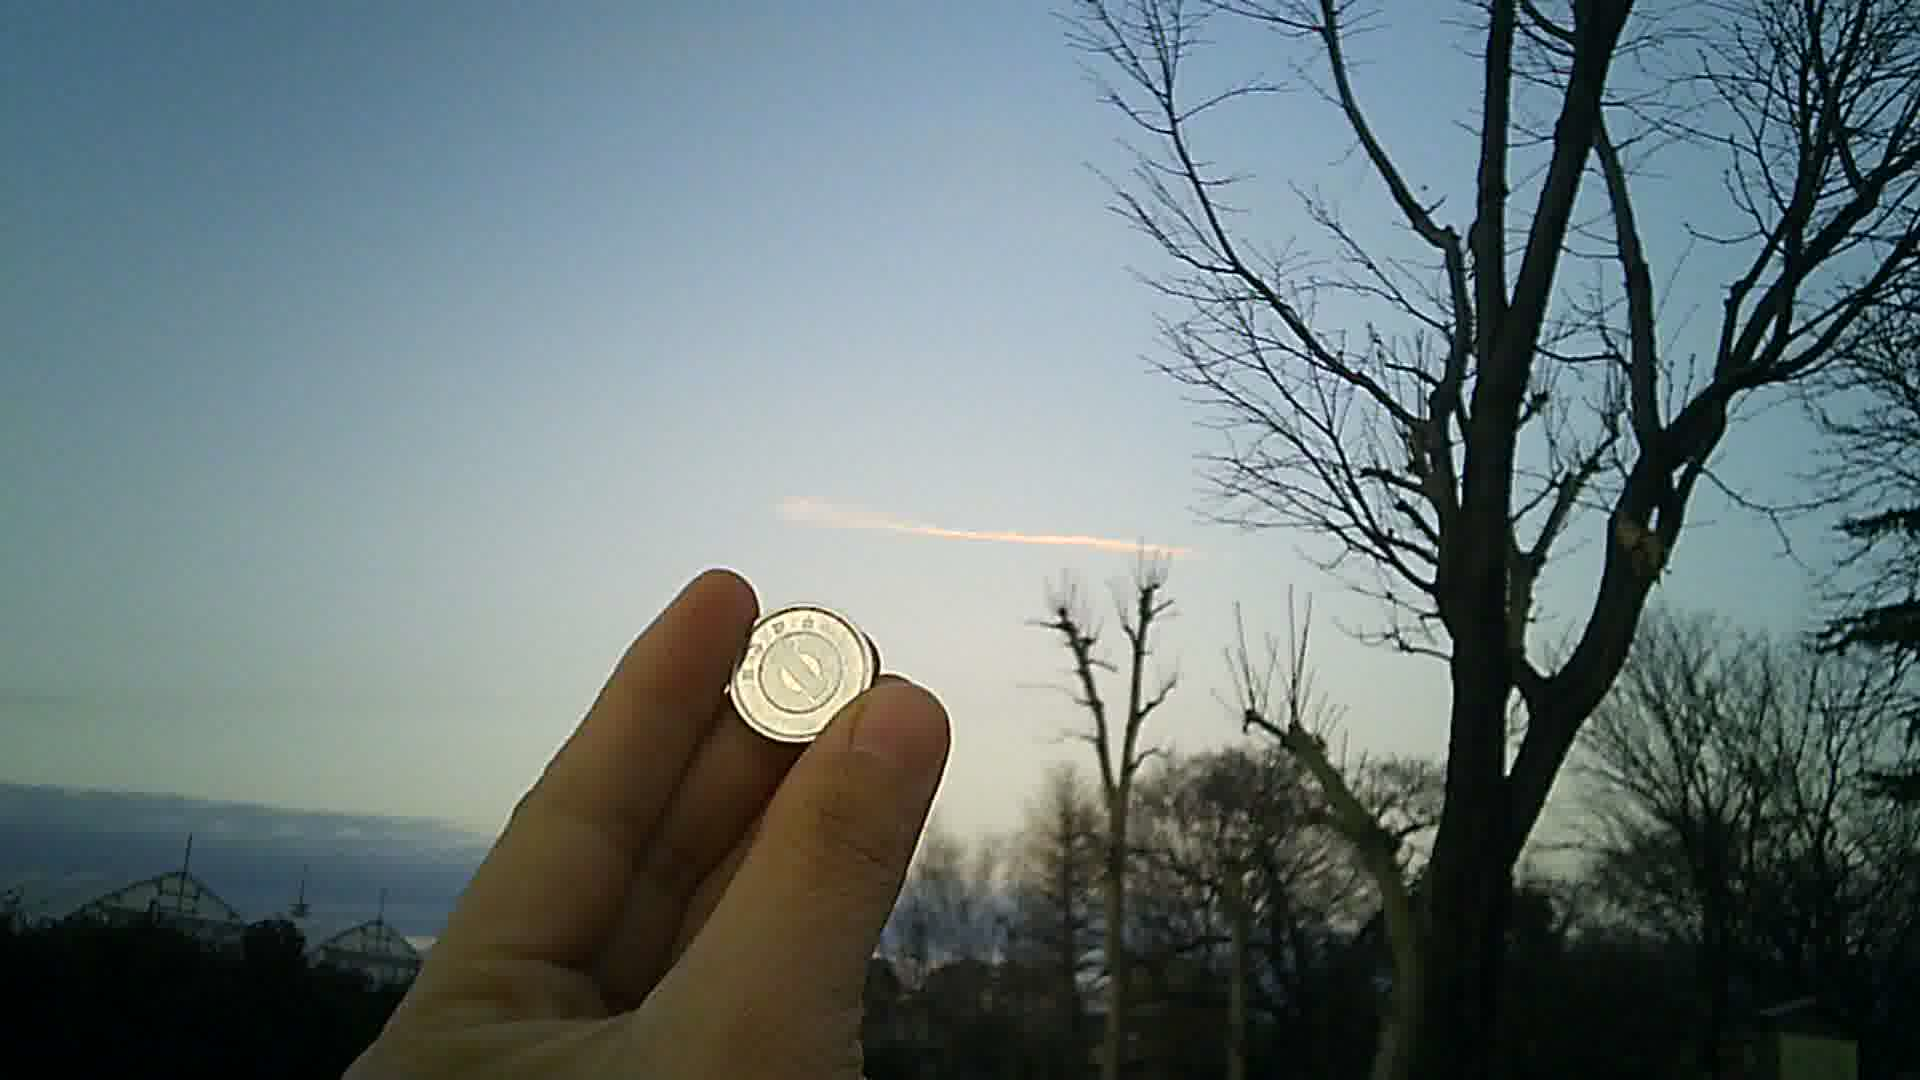1 Yen: (720, 589, 884, 750)
